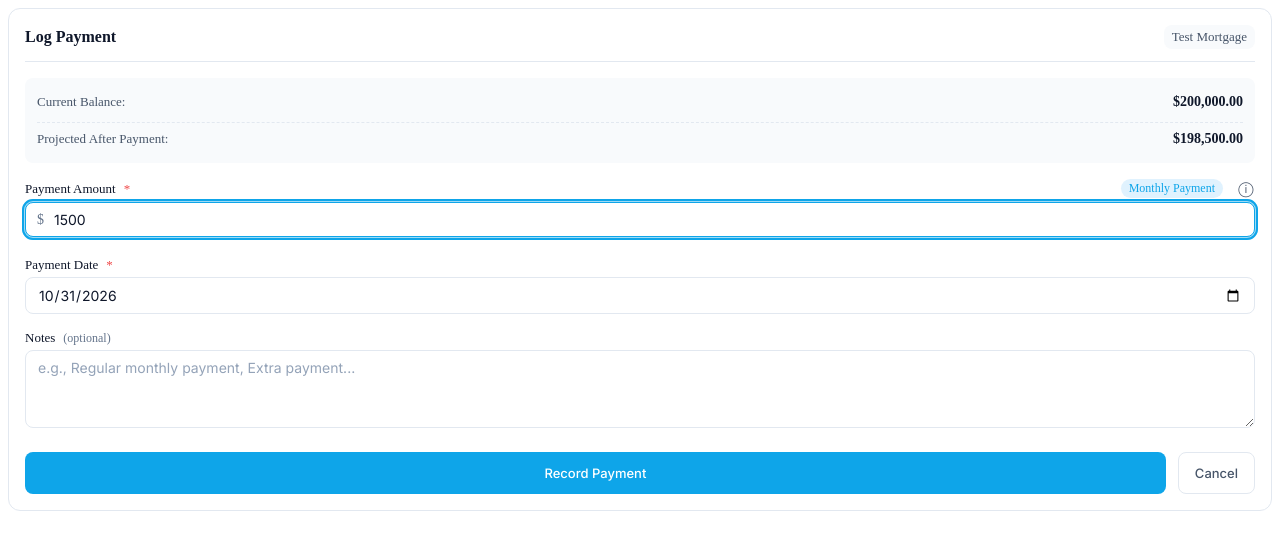
Scenario: LoanPaymentForm › should allow user to override suggested amount
Expected: the text "Monthly Payment" is shown, 1121,179 -> 1223,198
Note: Change the amount
Replace the text in the field labelled "Payment Amount * Monthly Payment ⓘ" with "2000" at (640, 220), box 25,202 -> 1255,237
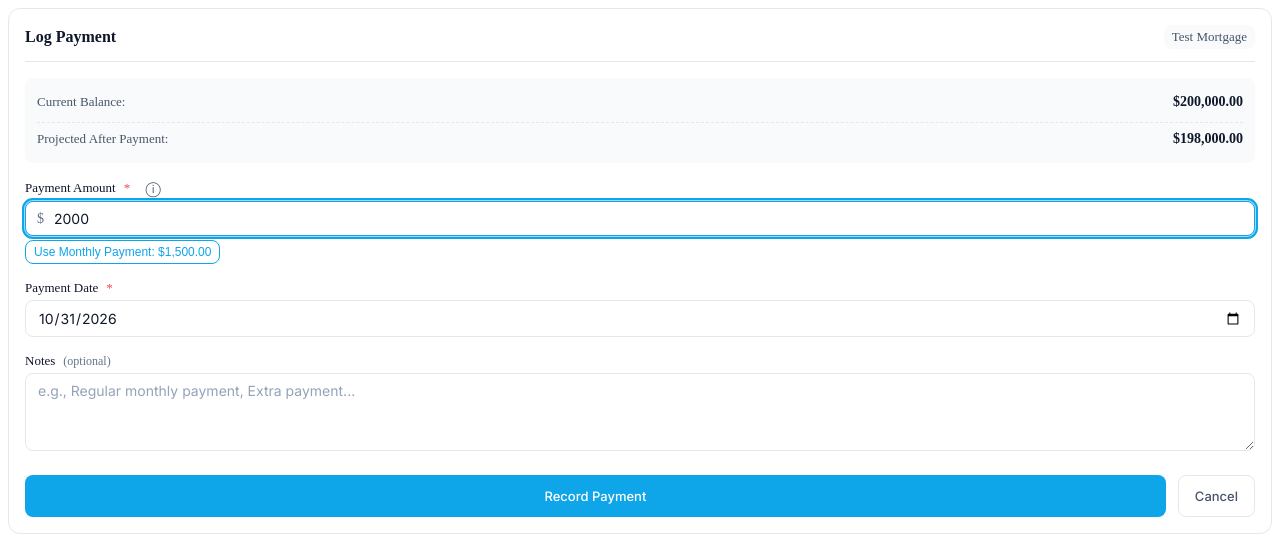
Result: the button "Use Monthly Payment: $1,500.00" is shown at 25,240 -> 220,264
Result: the text with class "suggested-badge" is gone
